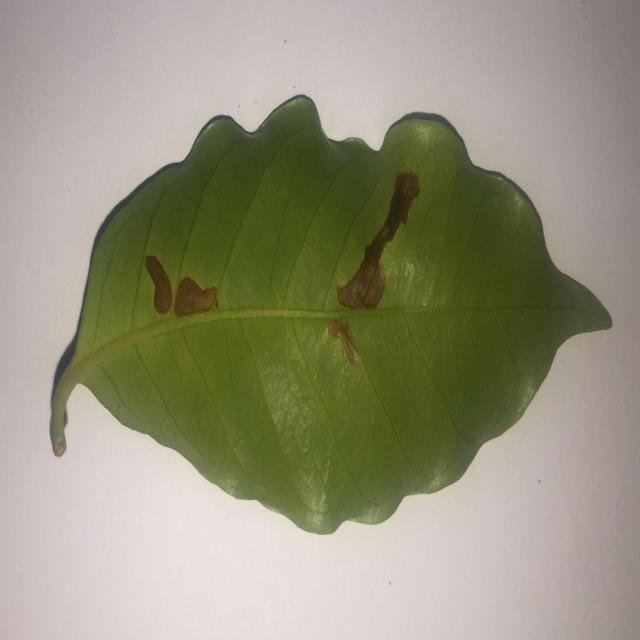Plaga-Minador: (48, 95, 613, 539)
